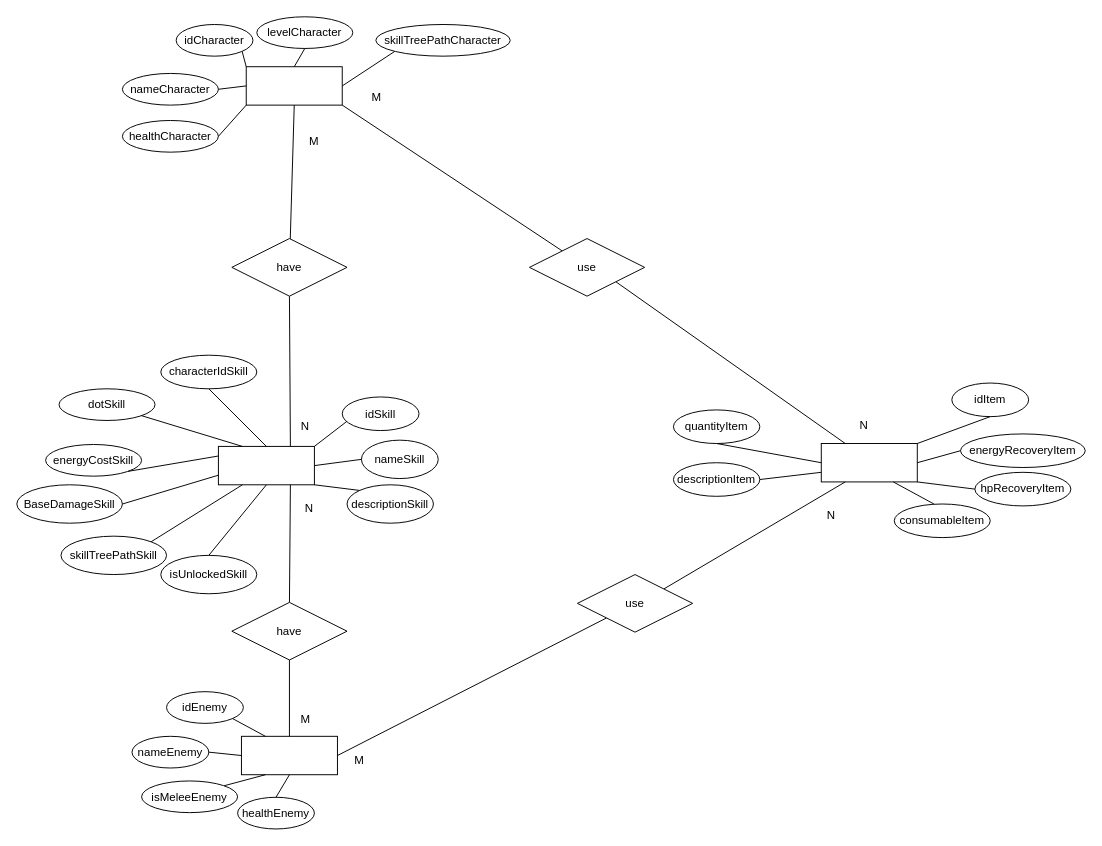
Image size: 1102x846. Some labels were removed from this diagram. The centre of each missing label's shape, as x and y in pixels:
Character: pixel 293 85
Enemy: pixel 288 755
Item: pixel 868 462
Skill: pixel 265 465
